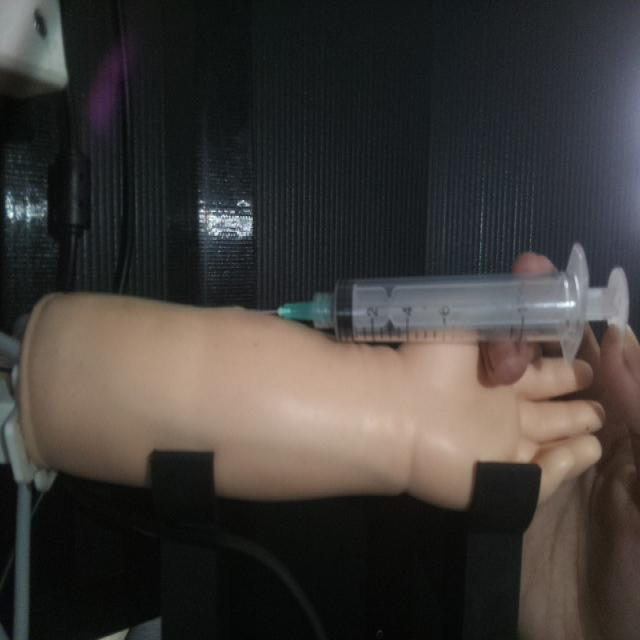Outside: (252, 240, 630, 364)
